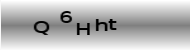6: (59, 10, 73, 23)
H: (75, 22, 90, 37)
Q: (32, 20, 50, 36)
h: (94, 18, 108, 32)
t: (107, 16, 117, 31)
